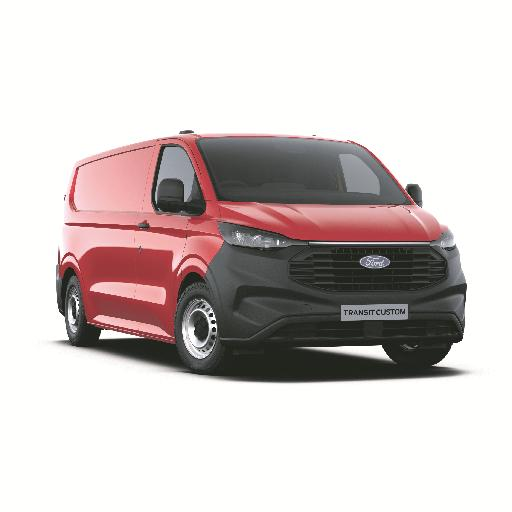van: (57, 130, 464, 371)
